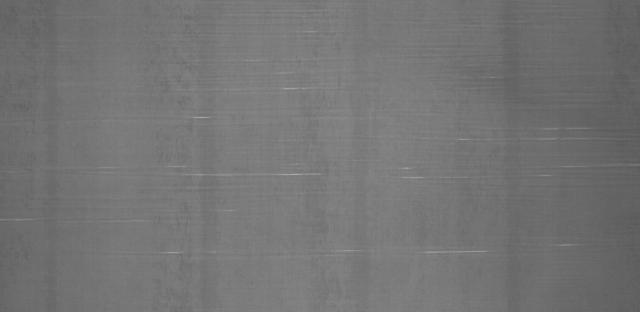waist_folding: (26, 64, 612, 278)
